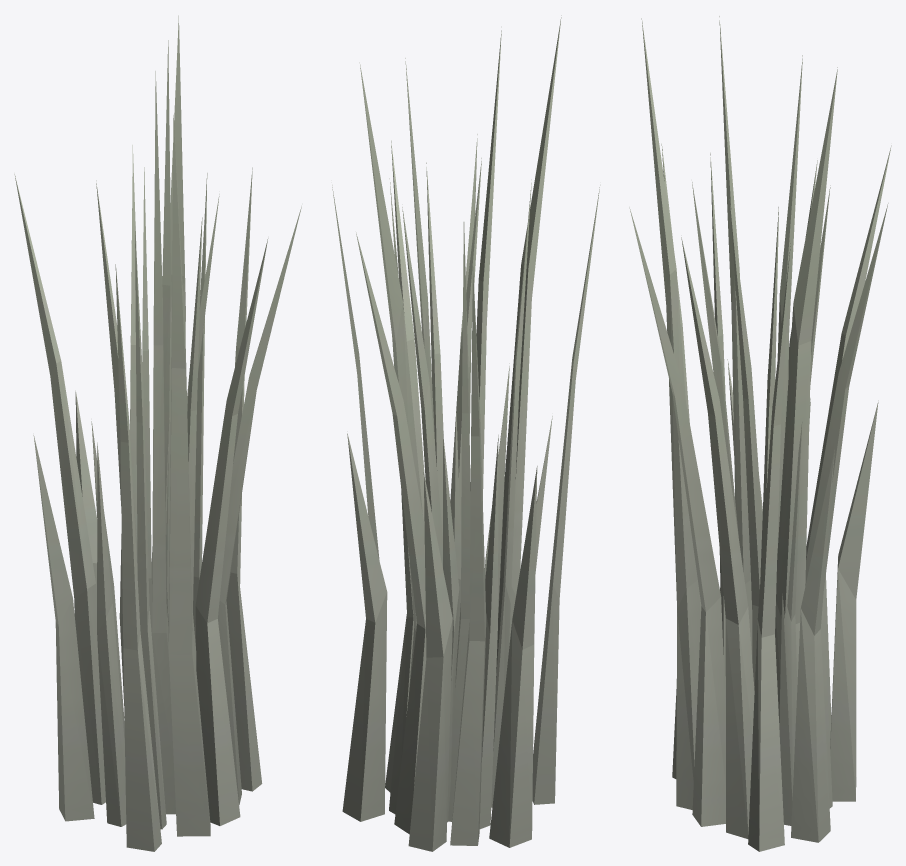
The model's file is tallgrass_a.glb.
The picture shows the model from 3 angles, left to right: view 1: azimuth 30°, elevation 25°; view 2: azimuth 150°, elevation 25°; view 3: azimuth 270°, elevation 25°; orthographic projection.
Parts seen in each view (by area): view 1: GrassHigh_A_4; view 2: GrassHigh_A_4; view 3: GrassHigh_A_4.
Part boxes in pixels (x1,y1,x2,y2): GrassHigh_A_4: (14,15,301,851); GrassHigh_A_4: (332,15,600,851); GrassHigh_A_4: (629,16,891,851).
Size of the model in its own units: 0.2745 by 0.95 by 0.292.
Materials: 1 (1 with a texture image).
